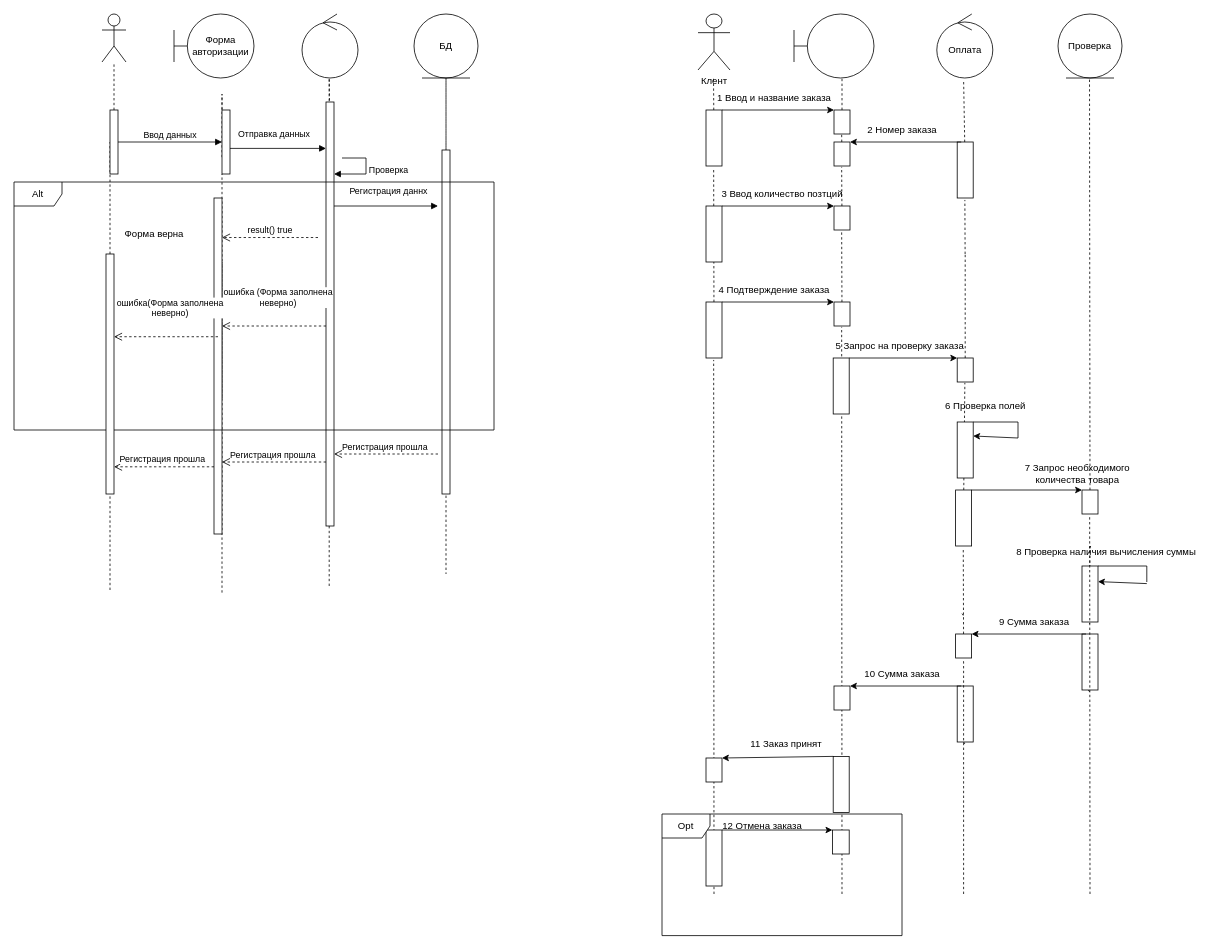
This 1220x950 diagram has some shape labels left out. Here are the shapes that lost their labels. From the top down, the centre of each, then its label:
At (113,37): "клиент".
At (329,45): "Менеджер доступа".
At (833,45): "Оформить заказ".
